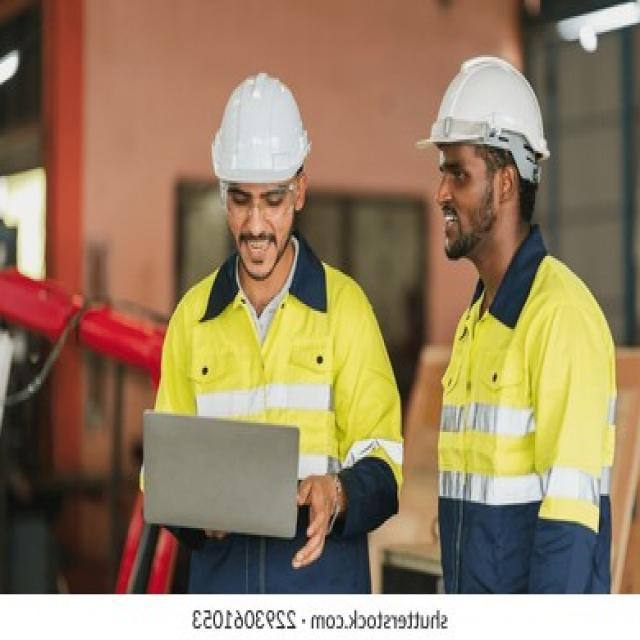safetyhelmet: (413, 54, 554, 204), (197, 70, 330, 212)
